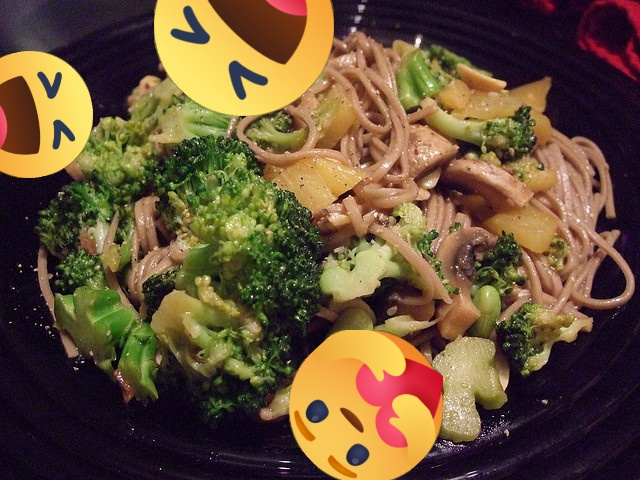care: (289, 330, 443, 480)
haha: (154, 0, 334, 116), (0, 51, 93, 178)
